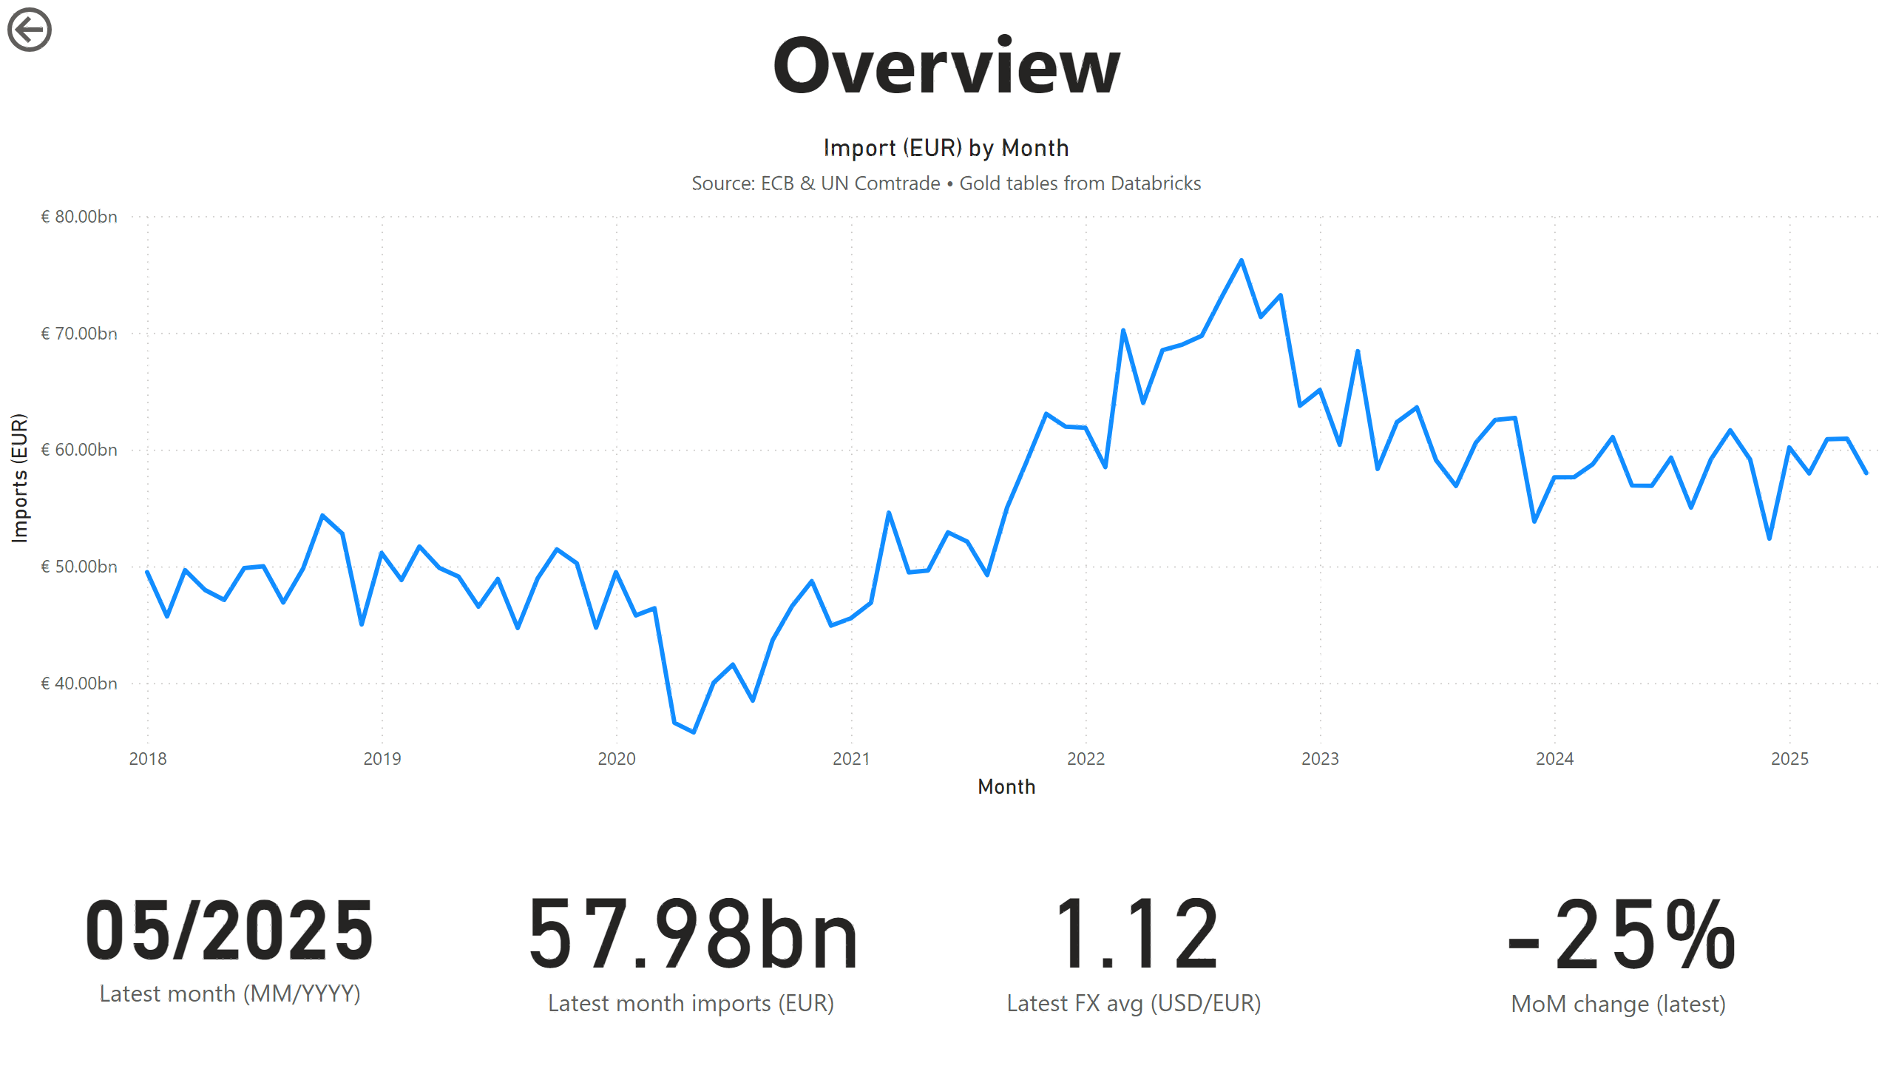

Layout of this report page (visuals, bound fields, positions):
{"tool":"powerbi","page":{"name":"Overview","canvas":[1280,720],"ordinal":0},"visuals":[{"type":"lineChart","title":"Import (EUR) by Month","fields":{"Category":["gold_monthly_metrics.month"],"Y":["Sum(gold_monthly_metrics.import_eur)"]},"box":[0,89.5,1280,454.6],"z":0},{"type":"card","fields":{"Values":["Sum(gold_monthly_metrics.import_eur)"]},"box":[311.1,544.1,312.5,176.2],"z":1000},{"type":"card","fields":{"Values":["Avg(gold_monthly_metrics.USD_per_EUR)"]},"box":[623.7,544.1,285.5,176.2],"z":2000},{"type":"card","fields":{"Values":["select","Sum(gold_monthly_metrics.eur_mom_pct)"]},"box":[909.2,544.1,370.8,177.6],"z":3000},{"type":"textbox","box":[0,0,1280,89.5],"z":4000},{"type":"actionButton","box":[0,0,100,40],"z":5000},{"type":"card","fields":{"Values":["Max(gold_monthly_metrics.month)","select"]},"box":[0,544.1,311.1,176.2],"z":6000}]}

Visuals, with their boxes in screenshot pixels (x1, y1, x2, y2), scaled from the page's 1280x720 canvas onto the 1894x1080 screenshot:
"Import (EUR) by Month" lineChart: left=0, top=134, right=1893, bottom=816
card - Sum(gold_monthly_metrics.import_eur): left=460, top=816, right=923, bottom=1079
card - Avg(gold_monthly_metrics.USD_per_EUR): left=923, top=816, right=1345, bottom=1079
card - select x Sum(gold_monthly_metrics.eur_mom_pct): left=1345, top=816, right=1893, bottom=1079
textbox: left=0, top=0, right=1893, bottom=134
actionButton: left=0, top=0, right=148, bottom=60
card - Max(gold_monthly_metrics.month) x select: left=0, top=816, right=460, bottom=1079
